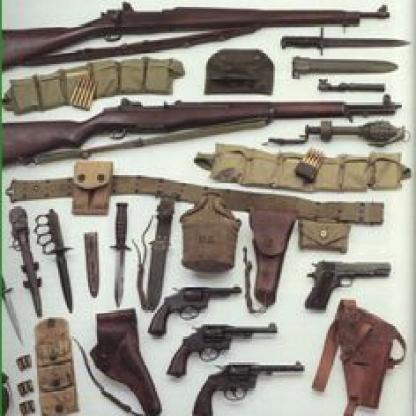Gun: (1, 95, 404, 171), (1, 1, 391, 70)
Knife: (282, 26, 411, 78), (134, 196, 176, 312), (33, 206, 77, 316), (7, 204, 44, 320), (110, 201, 133, 307), (1, 273, 24, 347)
Pistol: (190, 357, 307, 416), (166, 321, 279, 380), (148, 282, 242, 338), (305, 257, 392, 311)
